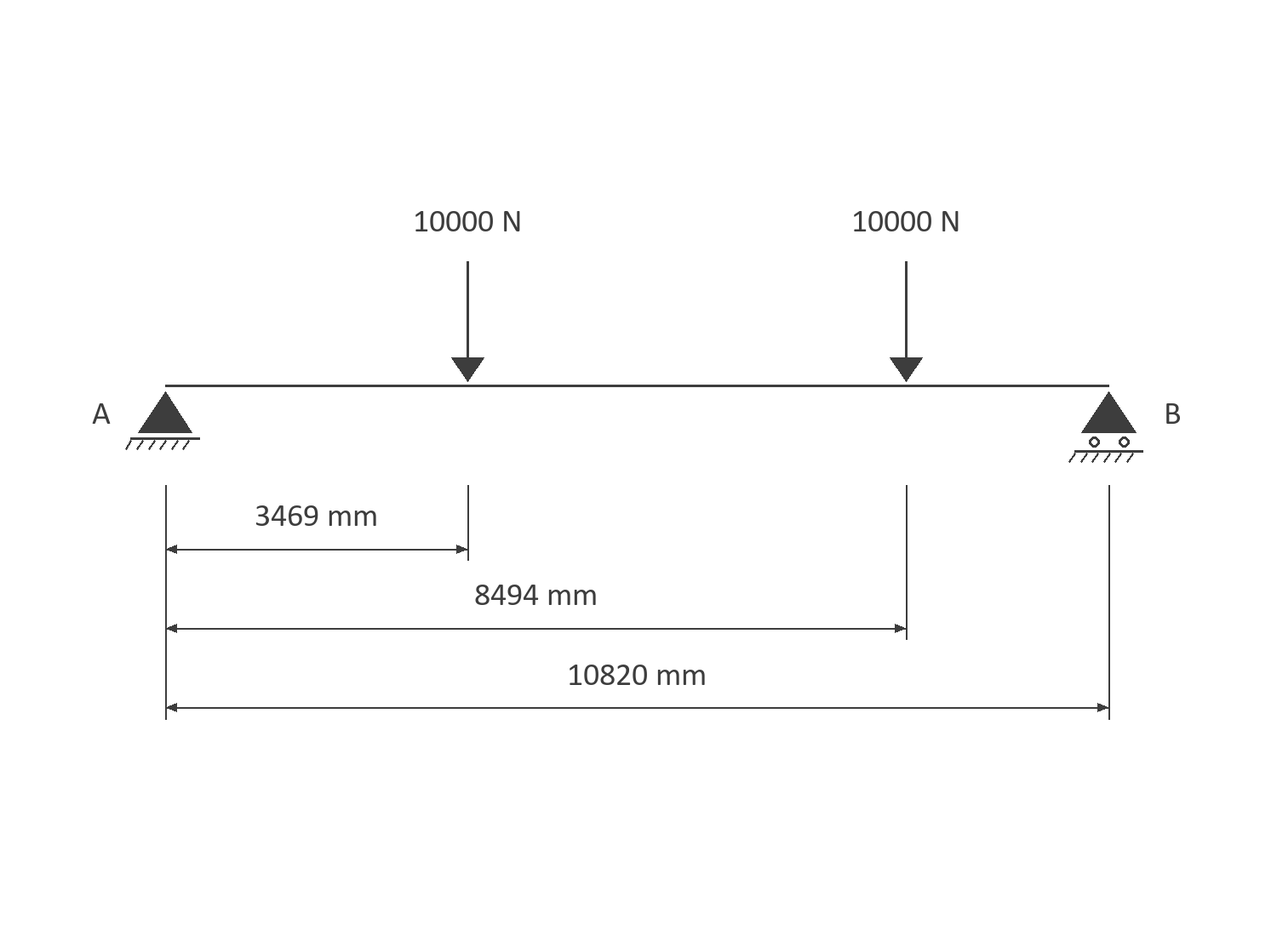pin_support: (125, 391, 200, 450)
point_load: (451, 261, 484, 382), (890, 261, 923, 382)
roller_support: (1068, 391, 1143, 463)
